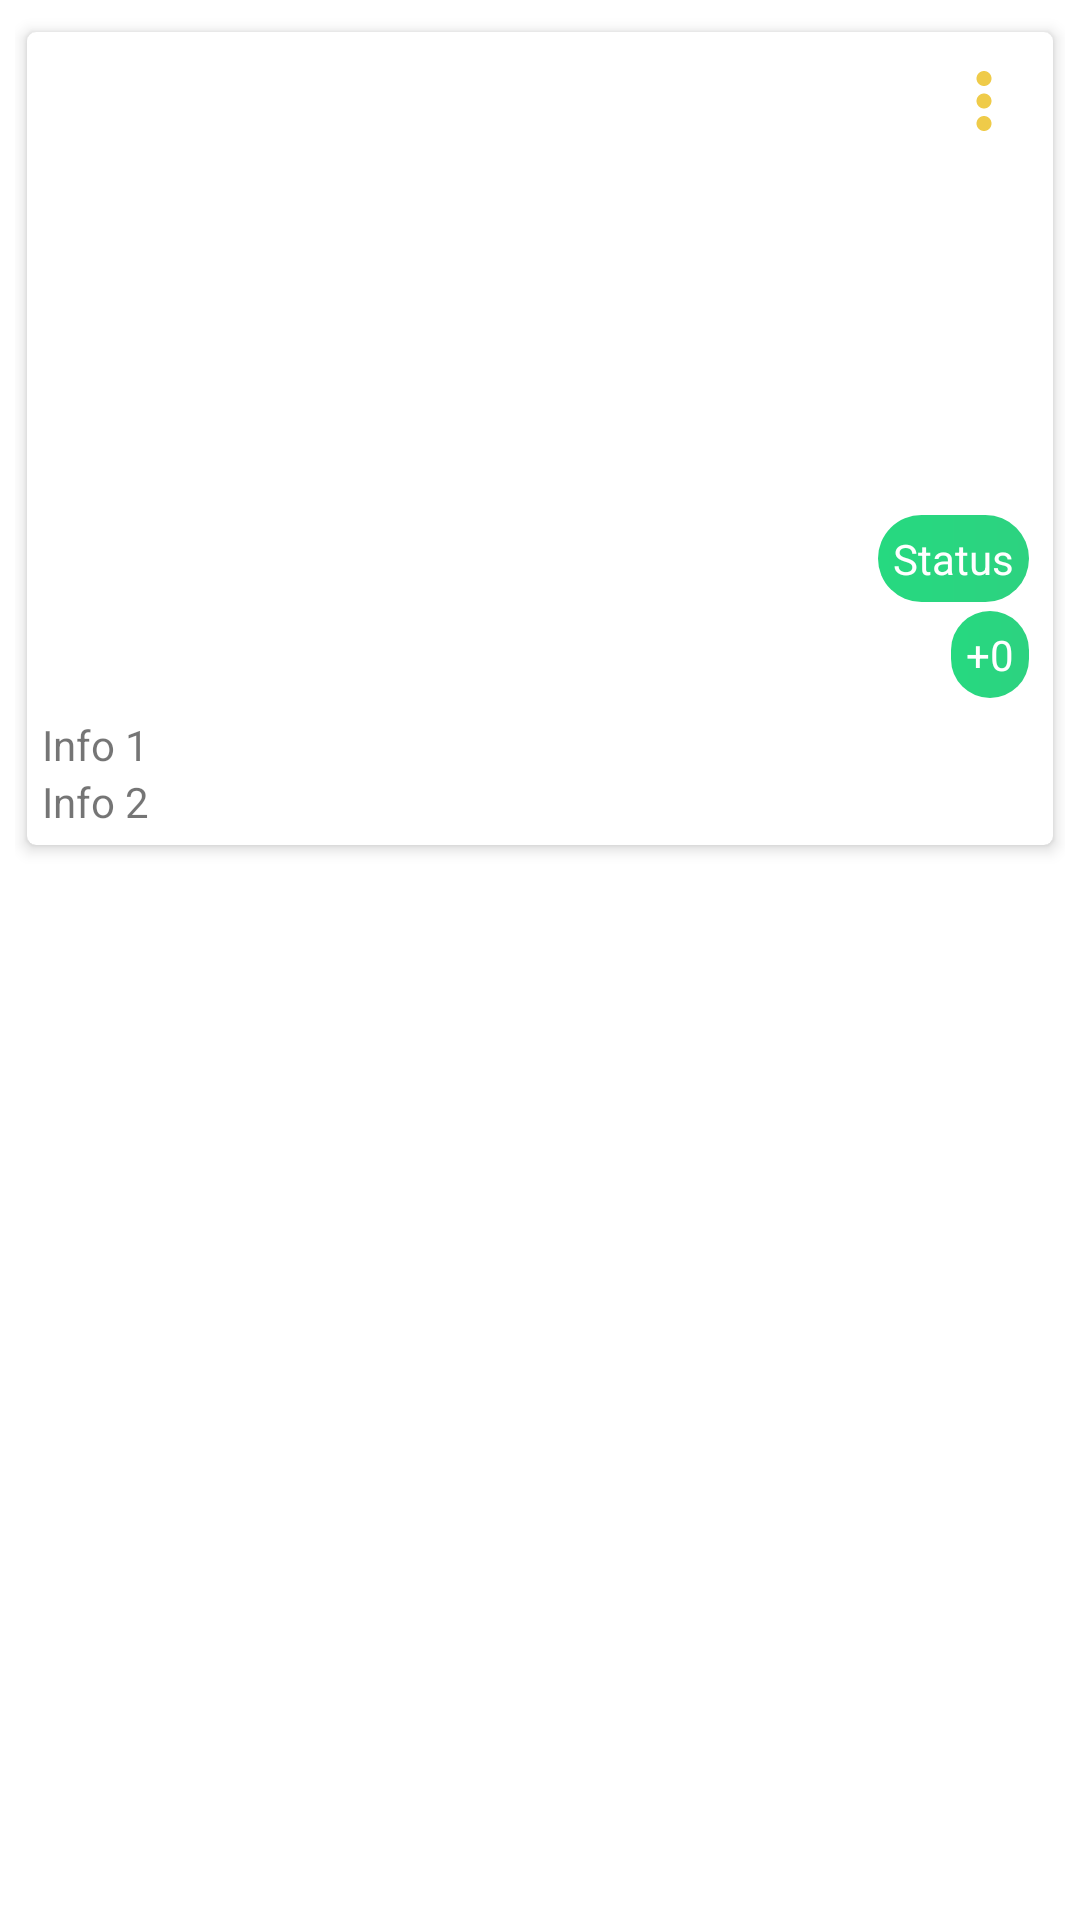

Where to tap for icons on this 1080px×1920px app screen, as (x=x, y=y):
dot more vert: (x=984, y=101)
